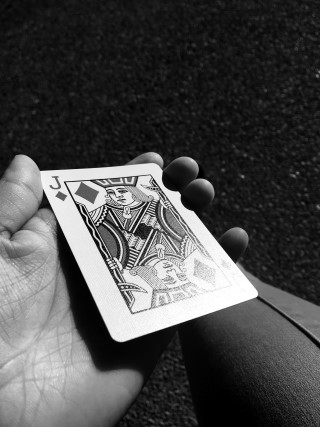JackOfDiamonds: (41, 163, 259, 343)
